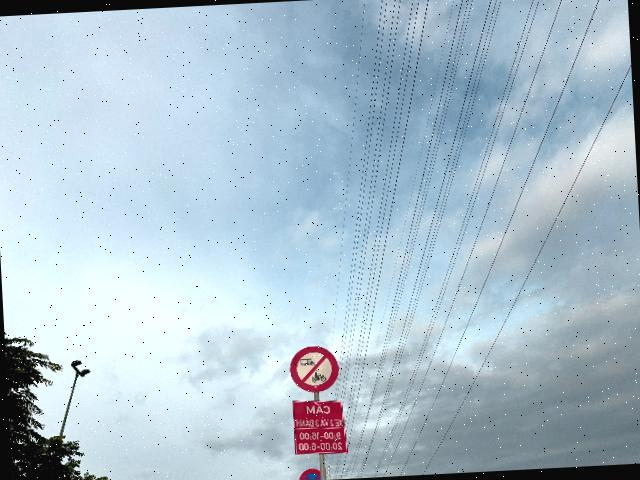cam-dung-va-do-xe: (298, 467, 322, 480)
cam-xe-2-banh-3-banh: (288, 344, 341, 394)
